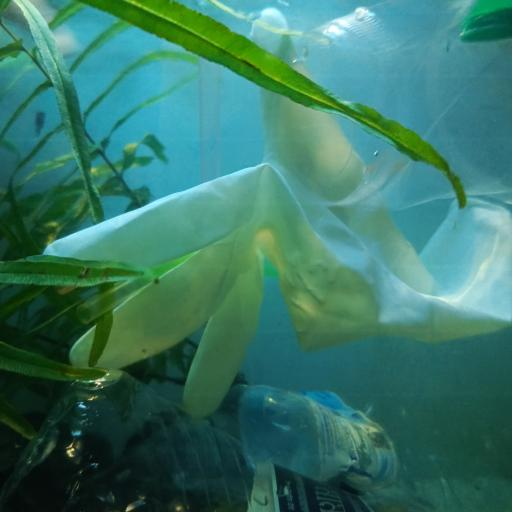bottle_cap: (462, 10, 512, 43)
glove: (40, 13, 512, 415)
plastic_bottle: (31, 367, 374, 512), (226, 379, 508, 510)
plastic_cup: (275, 0, 511, 215)
plastic_straw: (188, 42, 222, 181)
